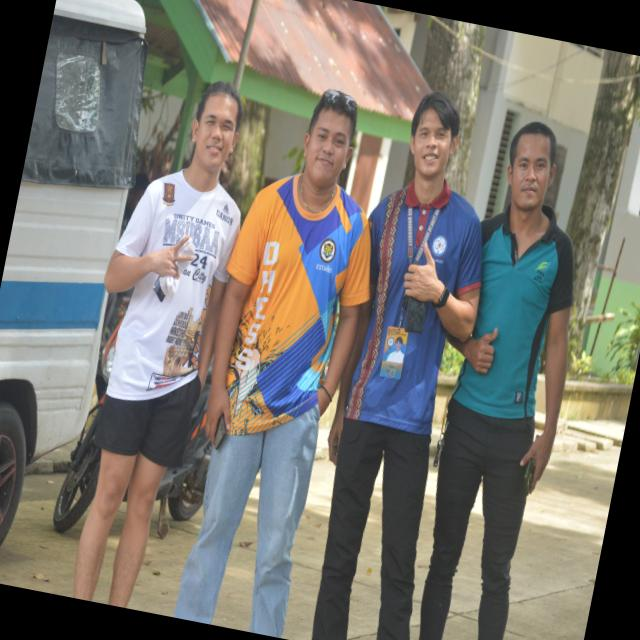person: (175, 90, 370, 637), (312, 92, 481, 639), (74, 82, 243, 607), (420, 122, 574, 639)
